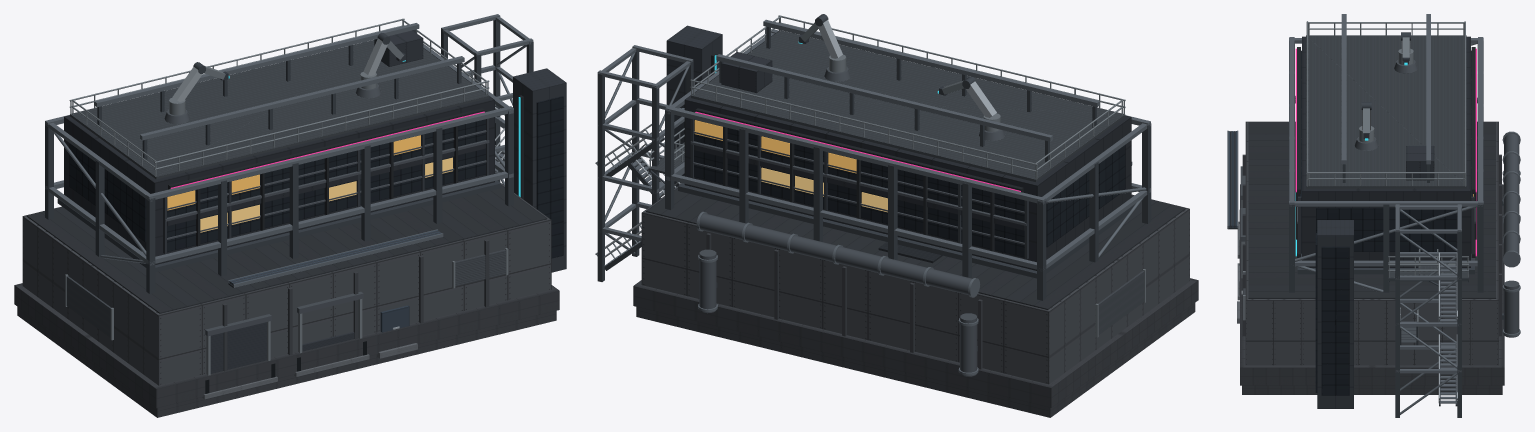
The model's file is trg-7-built.glb.
The picture shows the model from 3 angles, left to right: view 1: azimuth 30°, elevation 25°; view 2: azimuth 150°, elevation 25°; view 3: azimuth 270°, elevation 25°; orthographic projection. The views are drawn at different scales.
Size of the model in its own units: 35.52 by 19.17 by 20.84.
37 materials, 23 textured.
